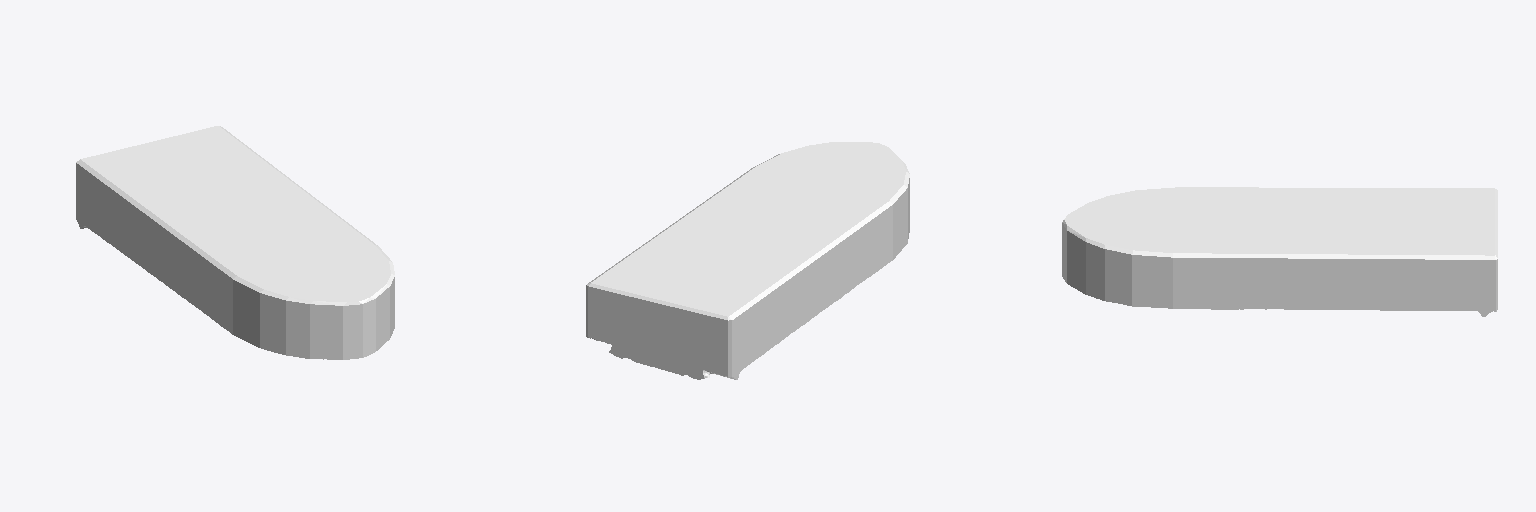
File: cathedral-window.obj
3 renders of one model, left to right at view 1: azimuth 30°, elevation 25°; view 2: azimuth 150°, elevation 25°; view 3: azimuth 270°, elevation 25°, orthographic.
Parts seen in each view (by area): view 1: default; view 2: default; view 3: default.
Part boxes in pixels (left/top/right/bottom): default: left=76, top=126, right=394, bottom=359; default: left=586, top=142, right=909, bottom=379; default: left=1062, top=187, right=1497, bottom=316.
Size of the model in its own units: 20.68 by 9.23 by 52.76.